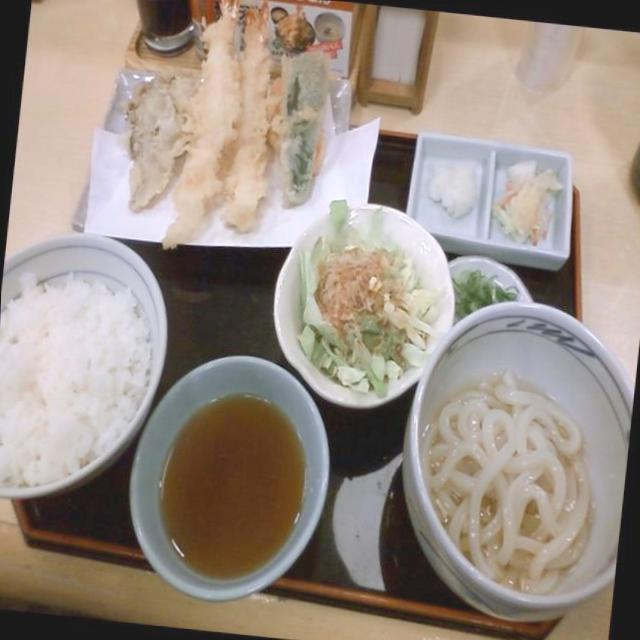Rice: (0, 244, 170, 517)
